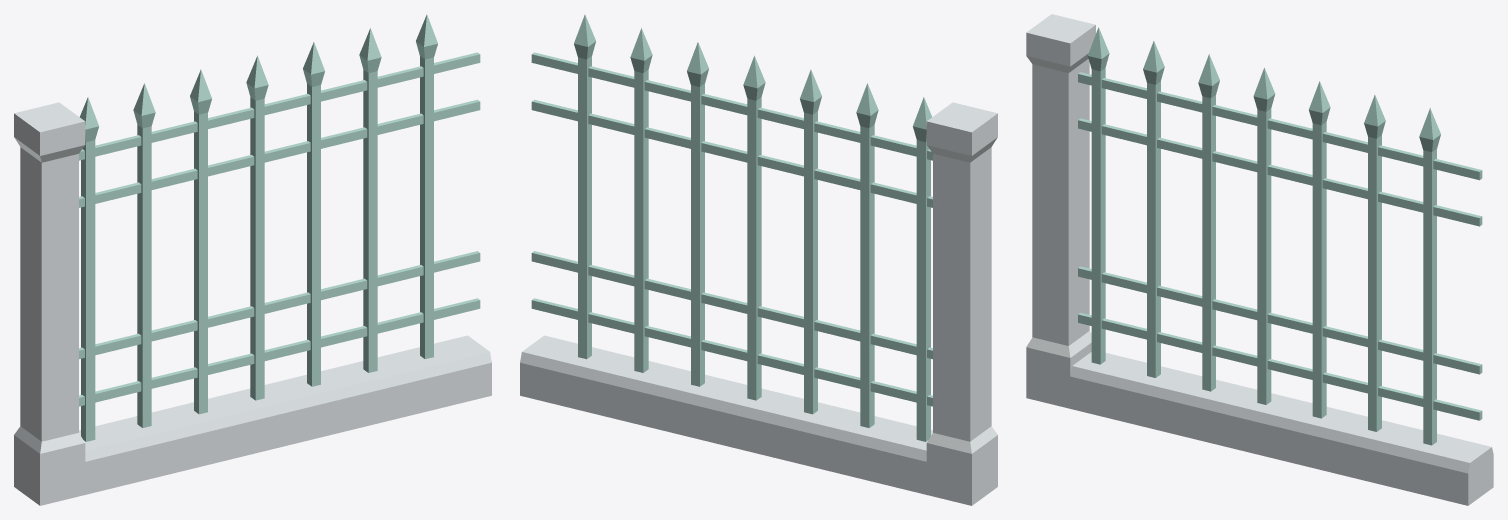
The model's file is fenceIronBorderPillar.glb.
The picture shows the model from 3 angles, left to right: view 1: azimuth 30°, elevation 25°; view 2: azimuth 150°, elevation 25°; view 3: azimuth 330°, elevation 25°; orthographic projection. The views are drawn at different scales.
Parts seen in each view (by area): view 1: fenceIronBorderPillar(Clone), bar (×11); view 2: fenceIronBorderPillar(Clone), bar (×11); view 3: bar (×11), fenceIronBorderPillar(Clone).
Boxes of the visible parts, x1,y1,x2,y2 form: fenceIronBorderPillar(Clone): [14, 102, 491, 505]; bar (×11): [79, 14, 480, 441]; fenceIronBorderPillar(Clone): [520, 102, 997, 505]; bar (×11): [531, 14, 932, 441]; bar (×11): [1078, 27, 1482, 445]; fenceIronBorderPillar(Clone): [1026, 14, 1493, 505].
Bounding box in the file's own units: 1 × 0.8139 × 0.1.
